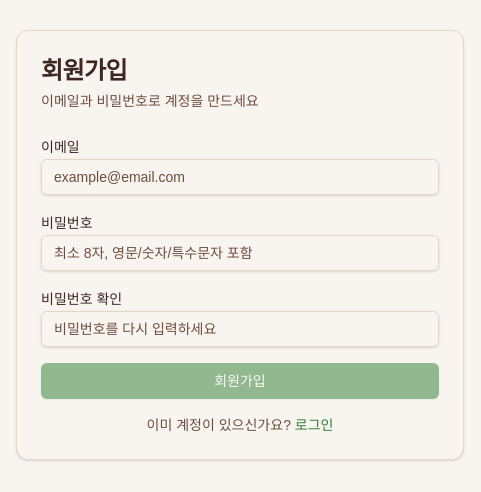
Test: SignUpPage › 약한 비밀번호 입력 시 에러 메시지를 표시해야 함
In the password field labelled "비밀번호": (240, 253) 41,235 -> 439,271, type "123"
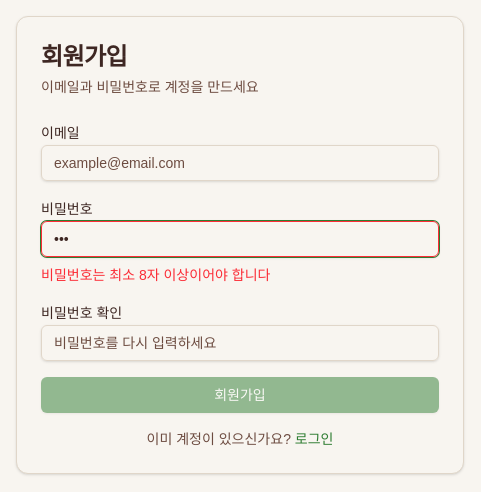
Expected: the text "비밀번호는 최소 8자 이상이어야 합니다" is shown, 41,267 -> 270,283
